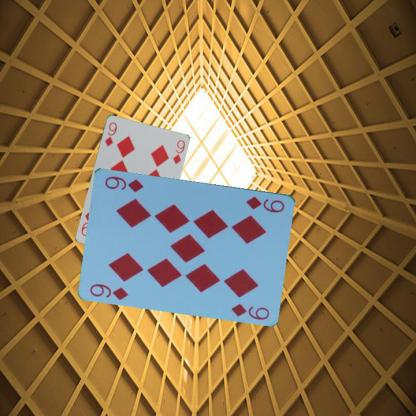9d: (243, 193, 286, 214), (88, 281, 130, 301), (102, 119, 118, 147)
